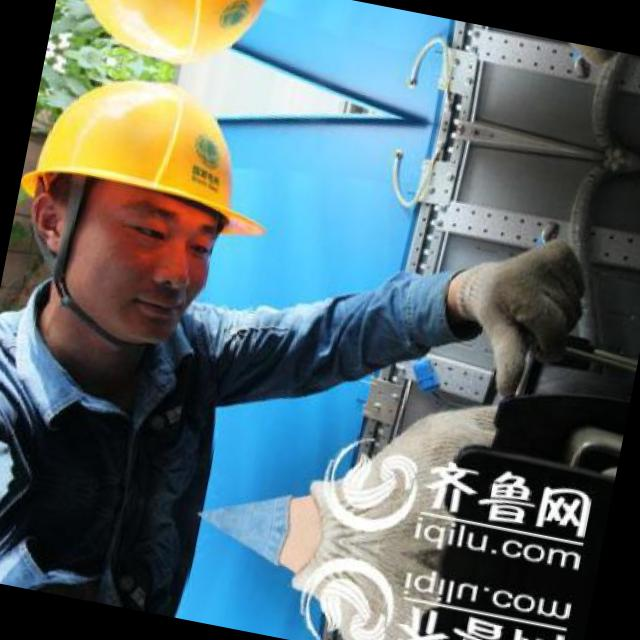helmet: (0, 49, 305, 383), (50, 0, 326, 101)
